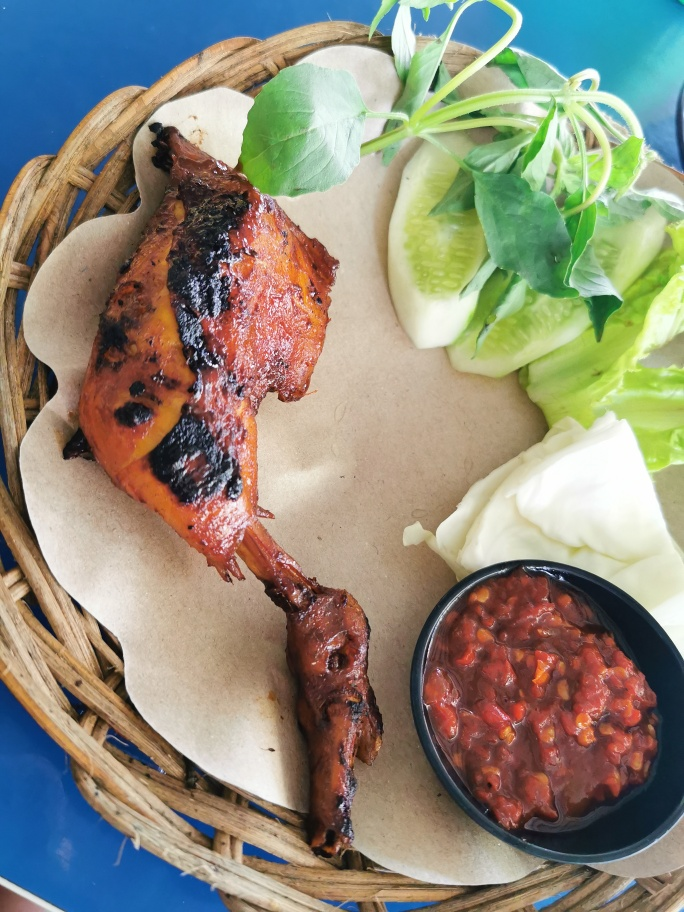ayam bakar: (74, 102, 424, 861)
